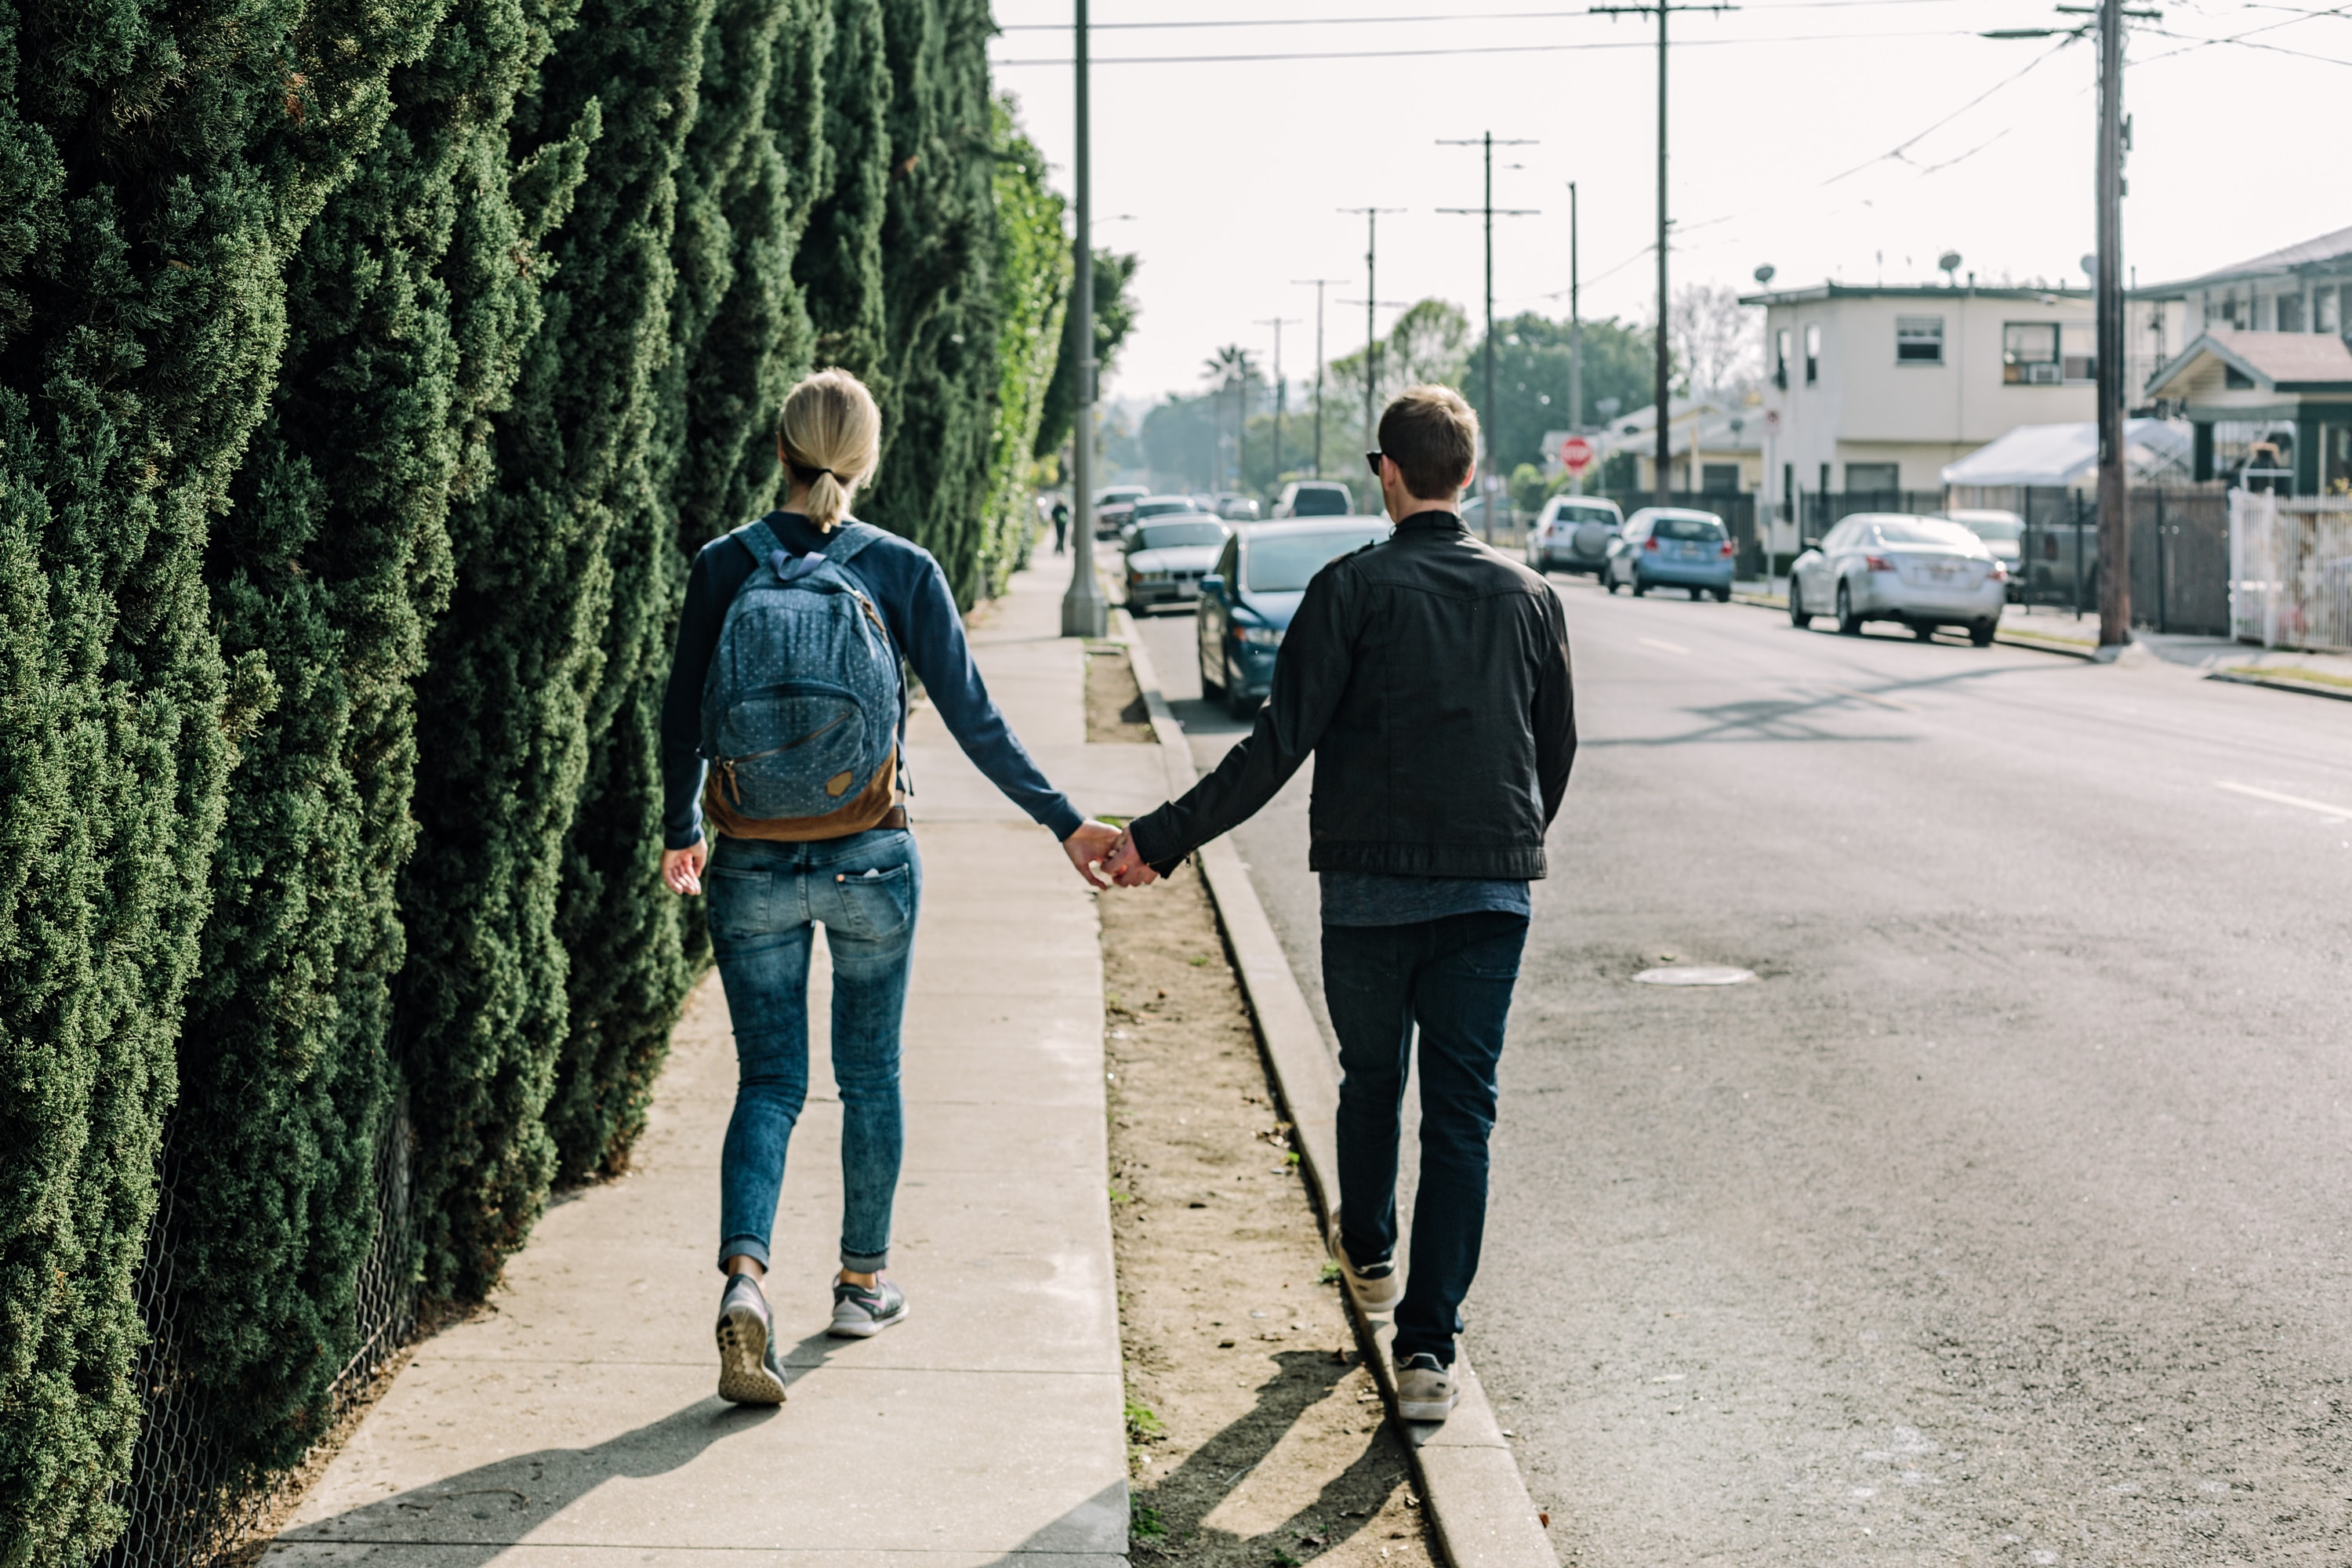person: (1130, 382, 1597, 1432), (673, 376, 1109, 1392)
